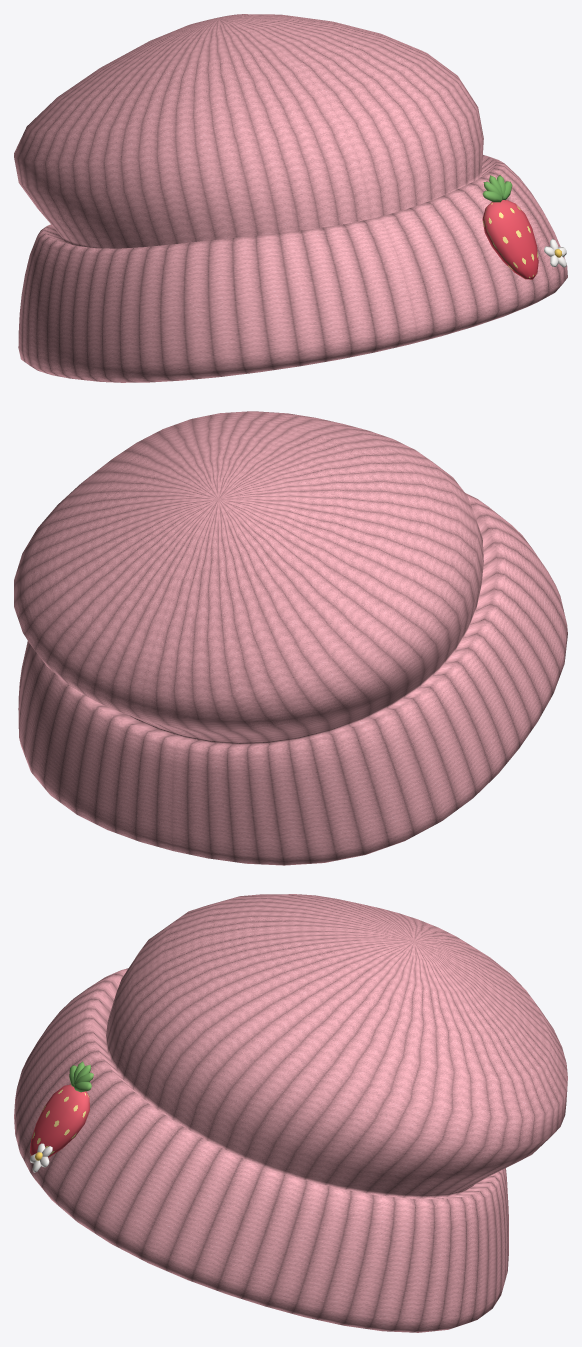
File: SB_Beanie.fbx
3 renders of one model, top to bottom at view 1: azimuth 30°, elevation 25°; view 2: azimuth 150°, elevation 25°; view 3: azimuth 270°, elevation 25°, orthographic.
Visible parts, largest first — view 1: SB_Beanie; view 2: SB_Beanie; view 3: SB_Beanie.
Part boxes in pixels (left/top/right/bottom): SB_Beanie: left=14, top=14, right=567, bottom=382; SB_Beanie: left=14, top=411, right=567, bottom=865; SB_Beanie: left=14, top=894, right=567, bottom=1332.
Size of the model in its own units: 1.57 by 1.1 by 1.63.
Materials: 1 (1 with a texture image).
